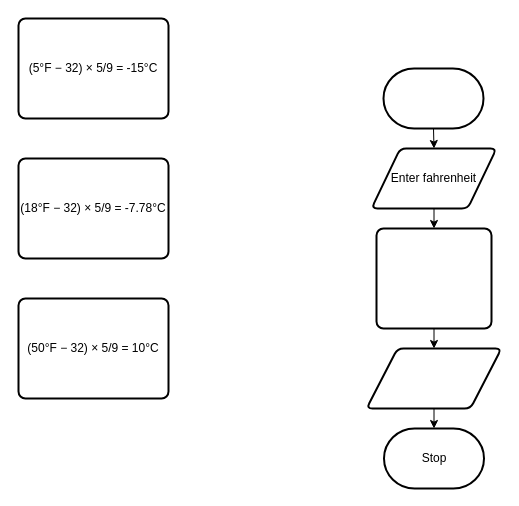
This 519x506 diagram has some shape labels left out. Each missing label, with the centre of its shape:
( °F − 32) × 5/9 = °C: the point at 433,278
Show the celcius: the point at 433,378
Start: the point at 433,98
